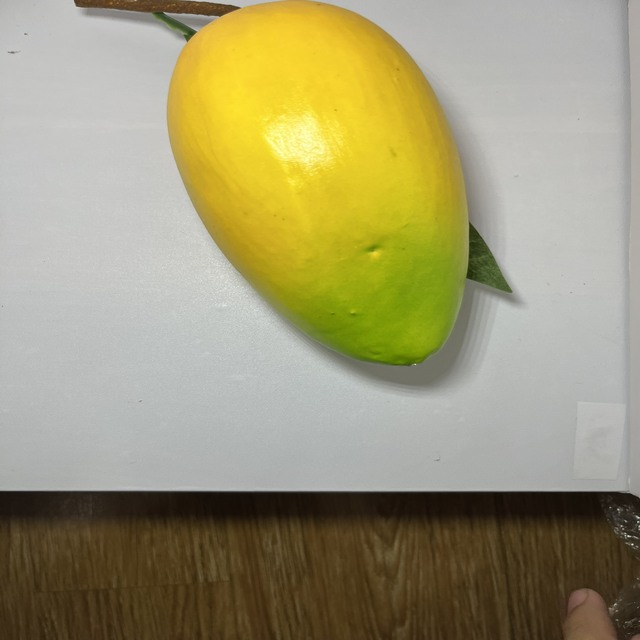Xoai: (156, 0, 473, 372)
